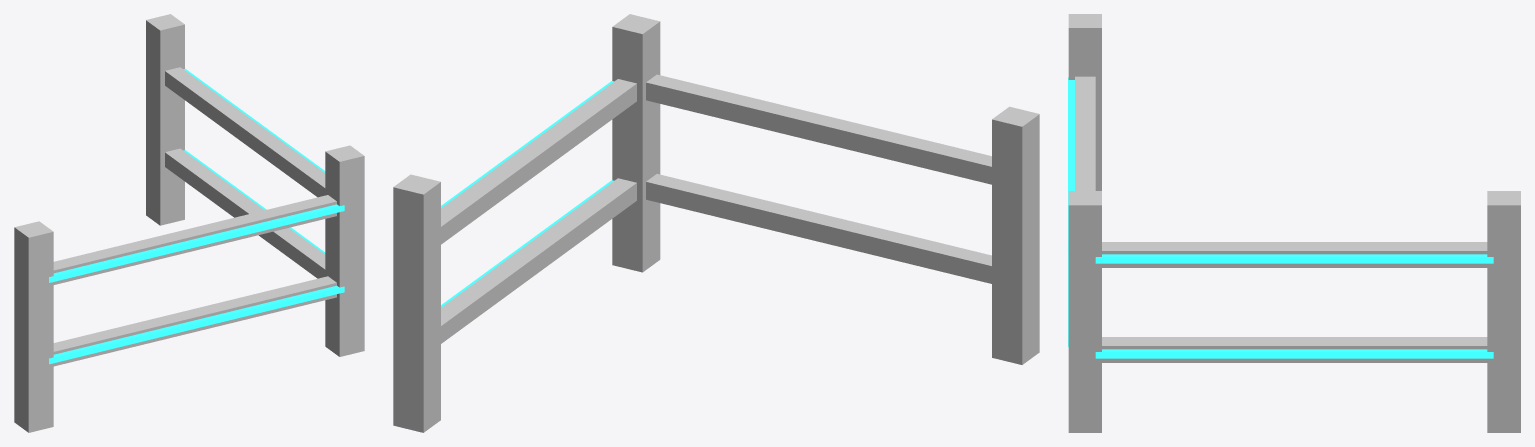
The picture shows the model from 3 angles, left to right: view 1: azimuth 30°, elevation 25°; view 2: azimuth 150°, elevation 25°; view 3: azimuth 270°, elevation 25°; orthographic projection. The views are drawn at different scales.
Visible parts, largest first — view 1: Neon_FenceCorner_Simple; view 2: Neon_FenceCorner_Simple; view 3: Neon_FenceCorner_Simple.
Part boxes in pixels (left/top/right/bottom): Neon_FenceCorner_Simple: left=14, top=14, right=364, bottom=432; Neon_FenceCorner_Simple: left=393, top=14, right=1039, bottom=432; Neon_FenceCorner_Simple: left=1068, top=14, right=1520, bottom=432.
Size of the model in its own units: 2.16 by 1.2 by 2.16.
